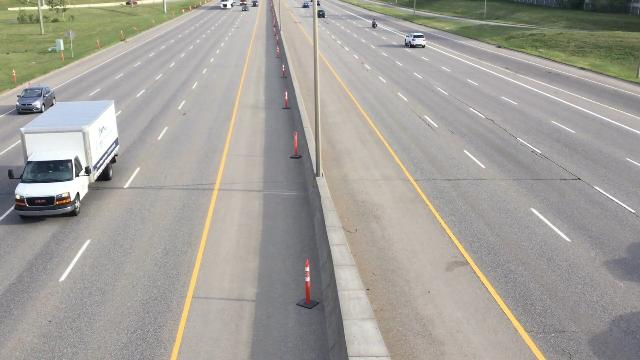car: (13, 83, 54, 114), (405, 30, 426, 49), (315, 9, 325, 18), (251, 0, 259, 7), (303, 1, 309, 8), (243, 5, 249, 11)
motorcycle: (371, 18, 377, 28)
truck: (11, 98, 121, 219), (219, 0, 235, 9)
